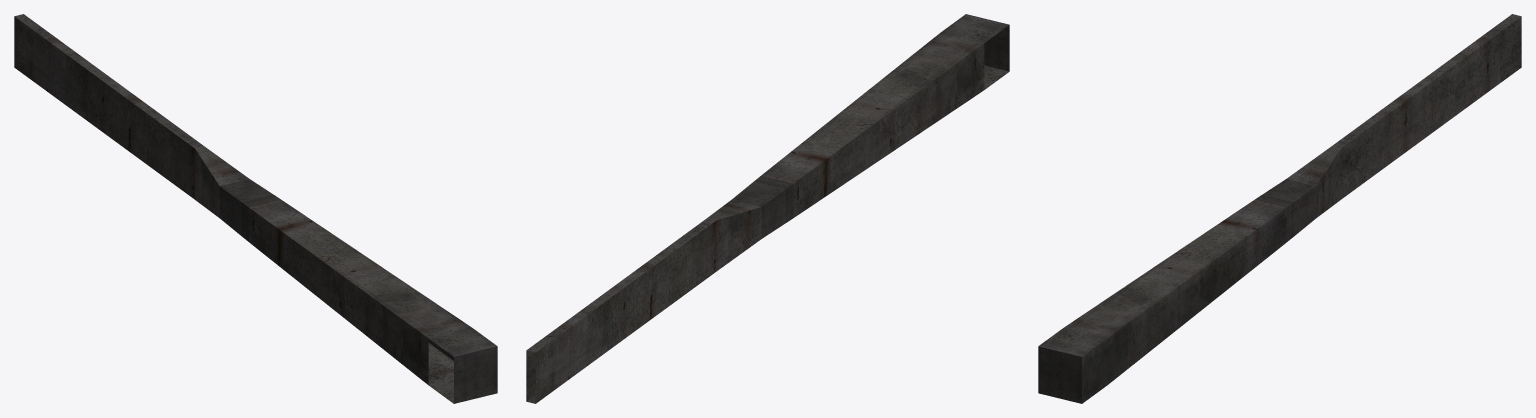
The model's file is Tunnel5.fbx.
3 renders of one model, left to right at view 1: azimuth 30°, elevation 25°; view 2: azimuth 150°, elevation 25°; view 3: azimuth 330°, elevation 25°, orthographic.
Visible parts, largest first — view 1: Tunnel5; view 2: Tunnel5; view 3: Tunnel5.
Part boxes in pixels (x1,y1,x2,y2): Tunnel5: [14, 14, 497, 403]; Tunnel5: [526, 14, 1009, 403]; Tunnel5: [1038, 14, 1521, 403].
Size of the model in its own units: 1.88 by 2.1 by 33.92.
